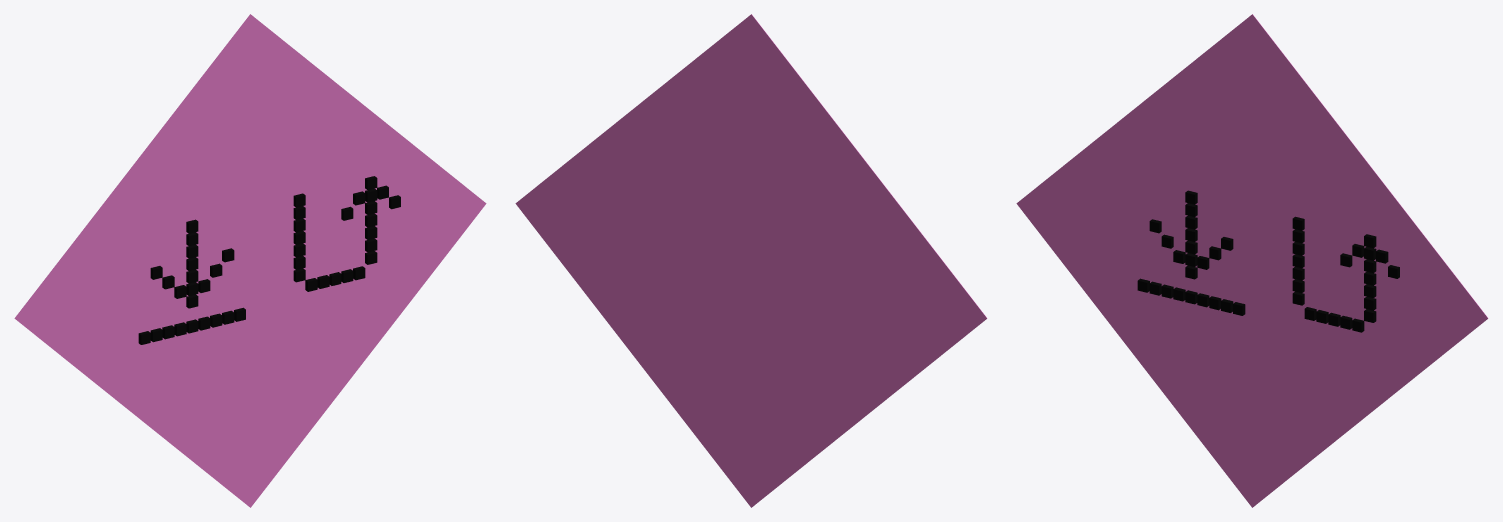
Rendered from ChangeAreaTypeNull.fbx.
3 views of the same model, side by side, from view 1: azimuth 30°, elevation 25°; view 2: azimuth 150°, elevation 25°; view 3: azimuth 330°, elevation 25° (orthographic).
Parts seen in each view (by area): view 1: Cube.020; view 2: Cube.020; view 3: Cube.020.
Part boxes in pixels (<box>): Cube.020: <box>14,14,486,507</box>; Cube.020: <box>515,14,987,507</box>; Cube.020: <box>1016,14,1488,507</box>.
Size of the model in its own units: 198 by 198 by 2.1.
